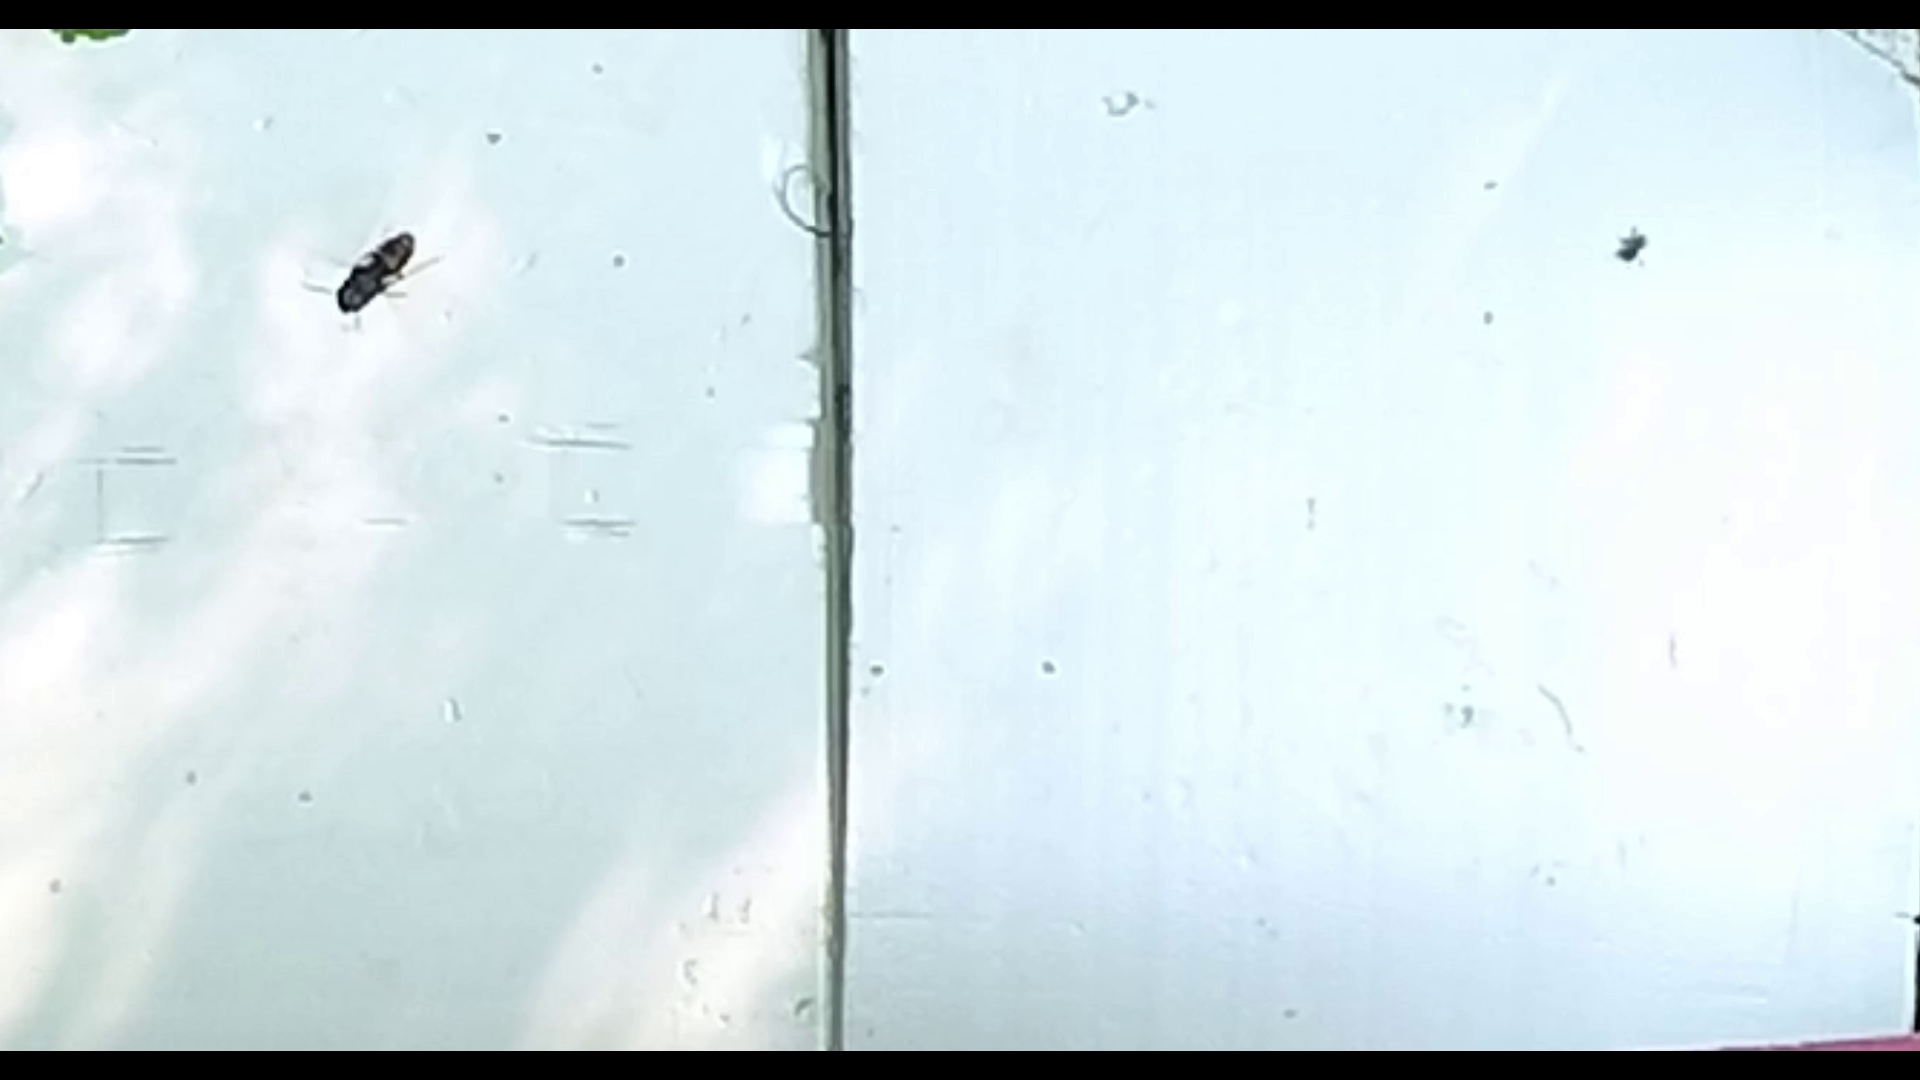Asian_hornets: (281, 198, 462, 356)
